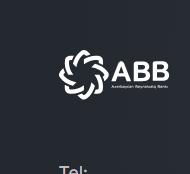ABB: (57, 48, 110, 102)
